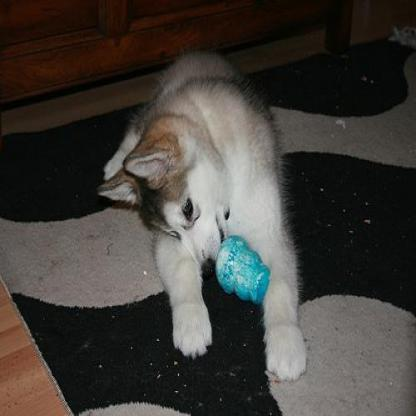malamute: (94, 45, 308, 381)
